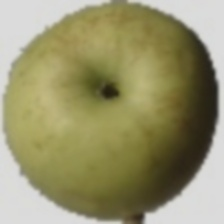apple: (17, 41, 218, 201)
